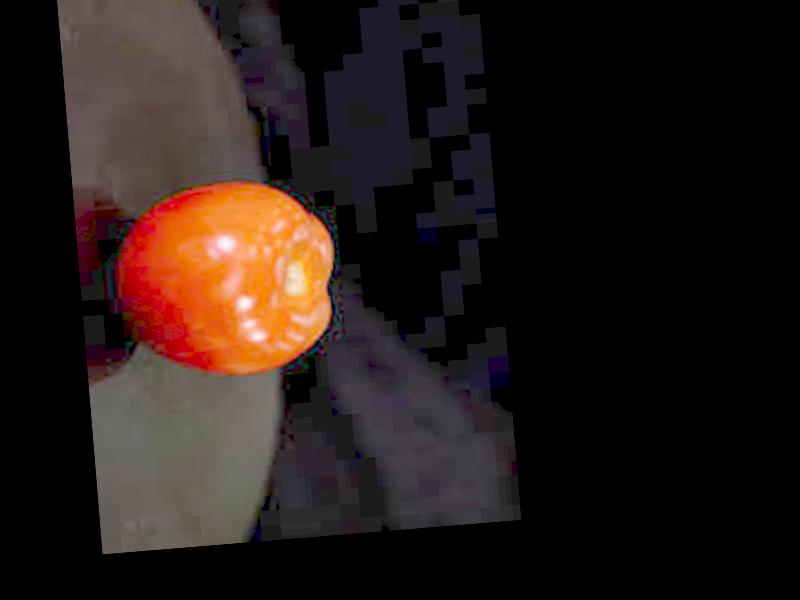Tomato: (114, 172, 342, 383)
